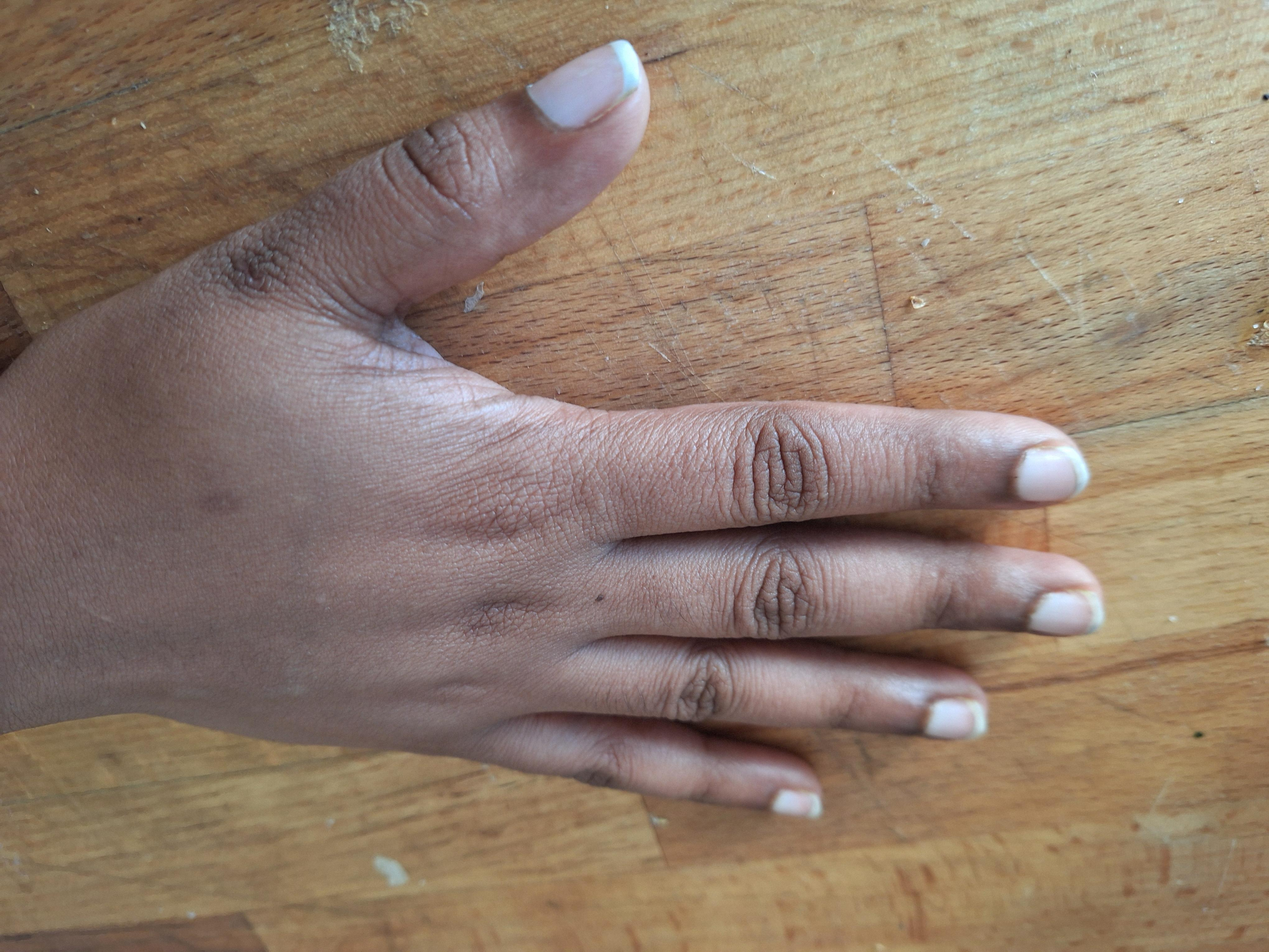Fingernail: (528, 39, 640, 128), (1015, 447, 1088, 502), (1029, 590, 1103, 636), (925, 696, 985, 742), (773, 789, 822, 820)
